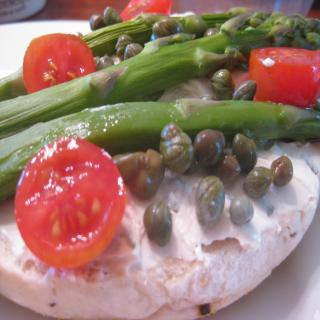tomato: (8, 133, 130, 270), (248, 46, 320, 110), (22, 32, 96, 94), (121, 0, 170, 21)
